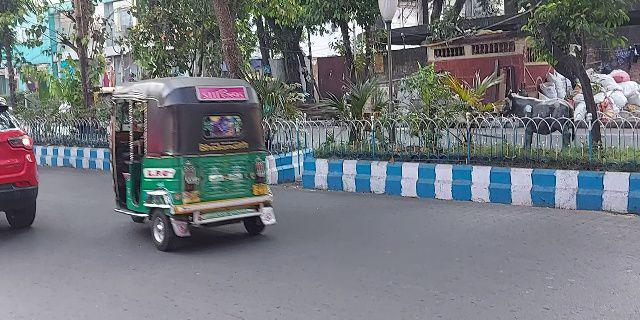Autorickshaw: (102, 75, 280, 248)
Car: (1, 100, 45, 232)
